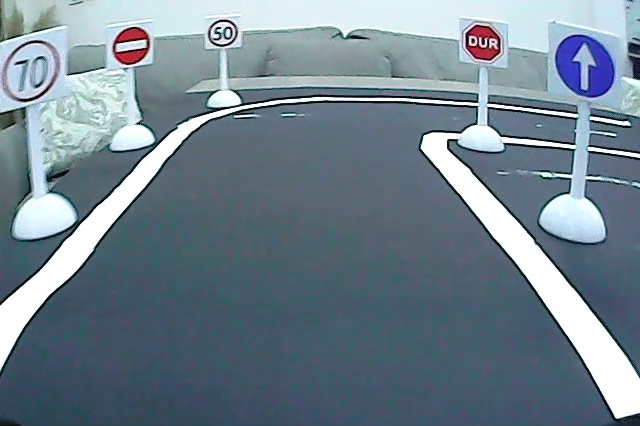do not enter: (111, 23, 152, 67)
speed limit 50: (209, 18, 240, 48)
speed limit 70: (1, 38, 63, 109)
stop sign: (460, 20, 507, 64)
